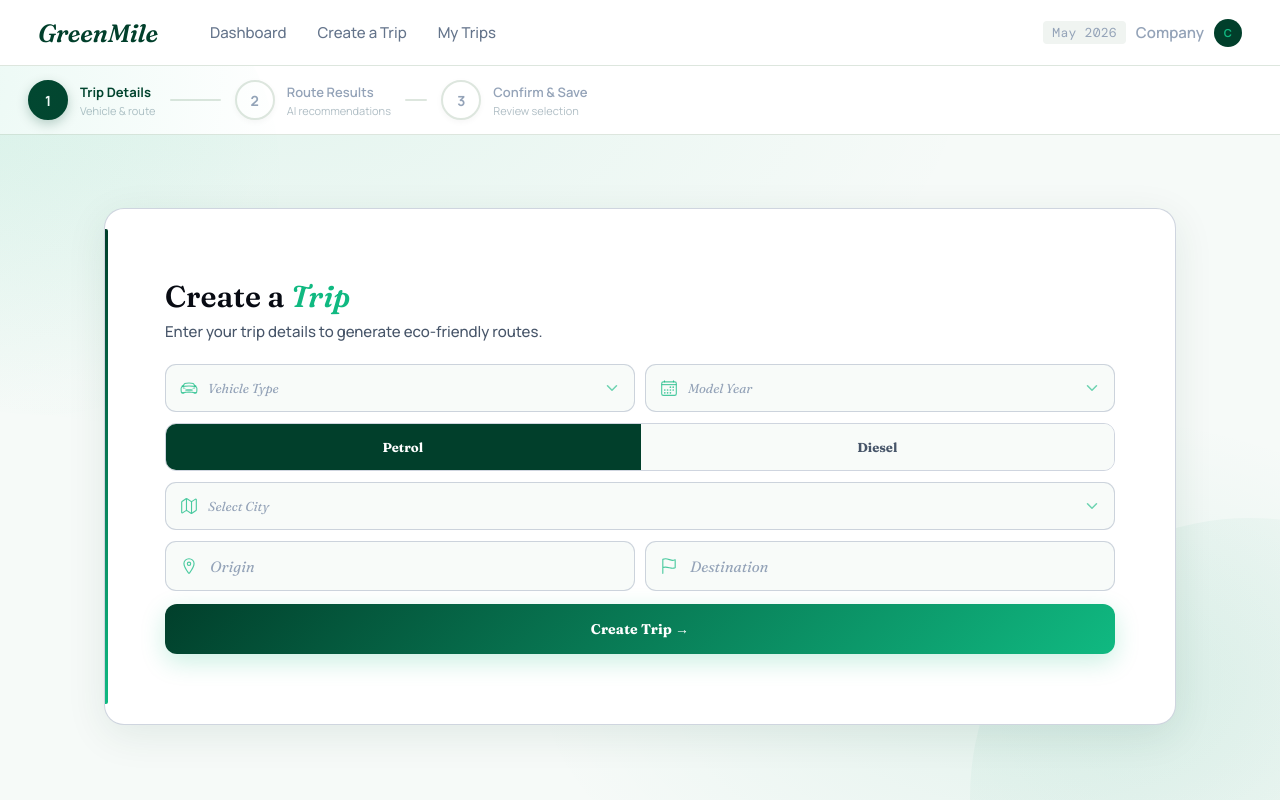
Test: TripScreen — Rendering & Initial State › vehicle dropdown includes all 7 vehicle types
Click the button "Vehicle Type" at [243, 388], box x1=165 y1=364 x2=635 y2=412
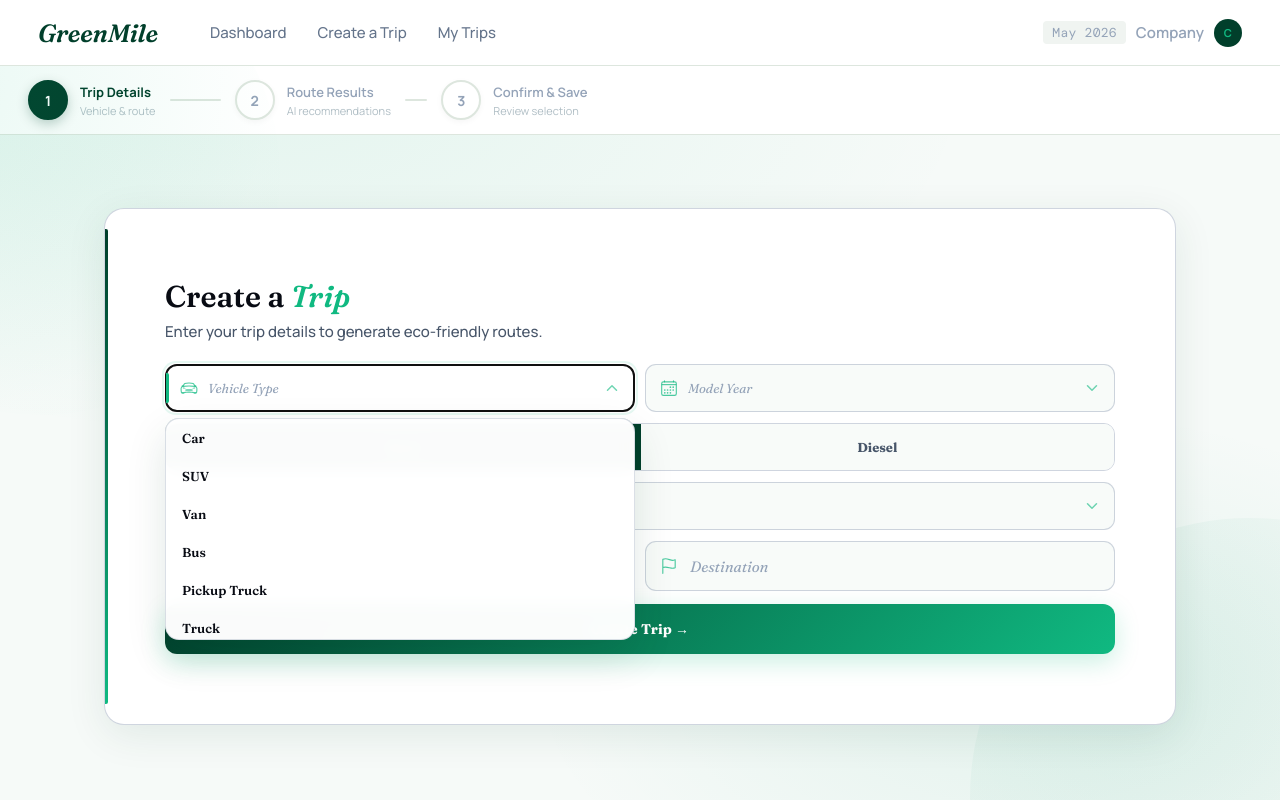
Check: the button "Car" is shown, box x1=166 y1=419 x2=634 y2=457
Check: the button "SUV" is shown, box x1=166 y1=457 x2=634 y2=495
